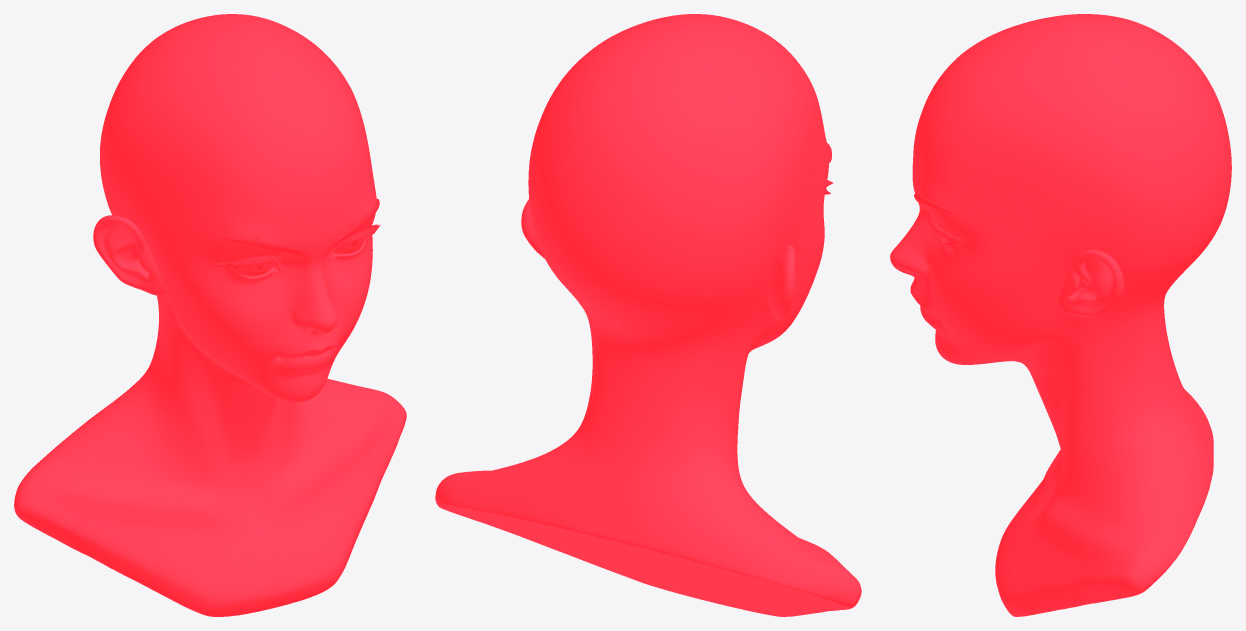
Rendered from seti-hologram.glb.
3 views of the same model, side by side, from view 1: azimuth 30°, elevation 25°; view 2: azimuth 150°, elevation 25°; view 3: azimuth 270°, elevation 25° (orthographic). The views are drawn at different scales.
Visible parts, largest first — view 1: Red Hologram Avatar; view 2: Red Hologram Avatar; view 3: Red Hologram Avatar.
Part boxes in pixels (x1,y1,x2,y2): Red Hologram Avatar: [14, 14, 406, 616]; Red Hologram Avatar: [435, 14, 861, 616]; Red Hologram Avatar: [890, 14, 1231, 616].
Bounding box in the file's own units: 1.47 × 2 × 1.1.
